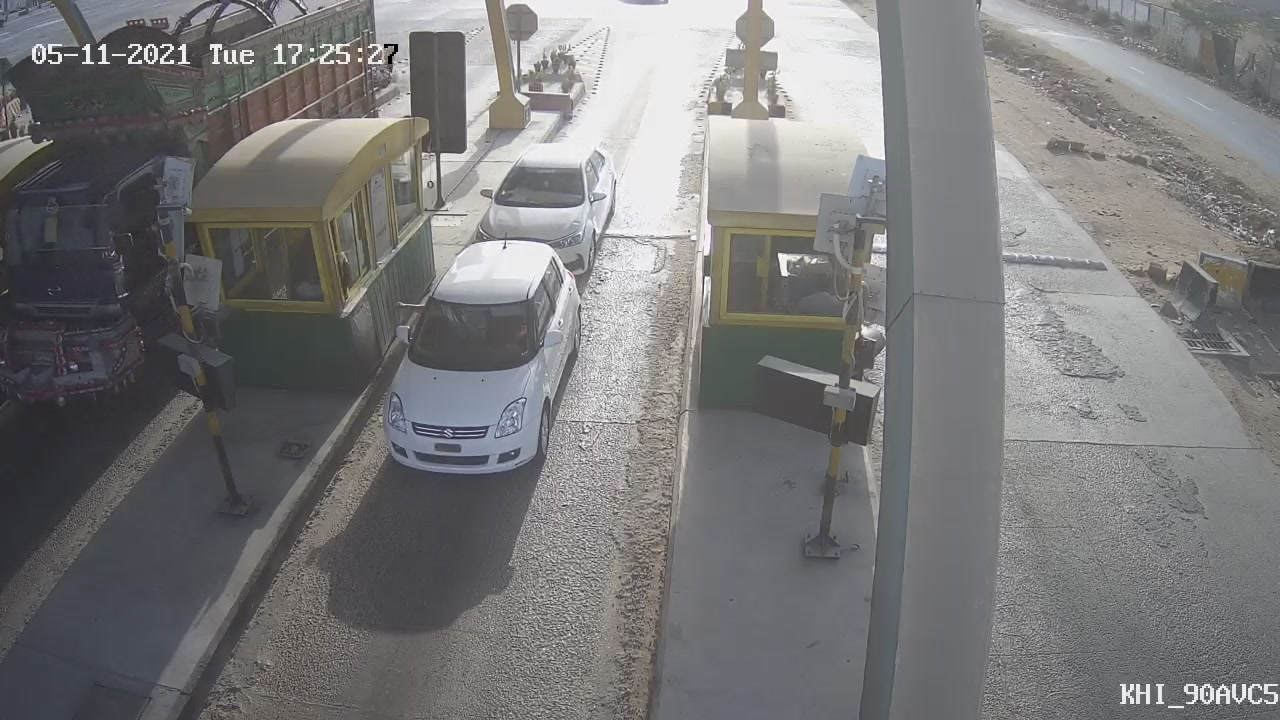F1: (364, 224, 598, 498), (455, 126, 629, 295)
